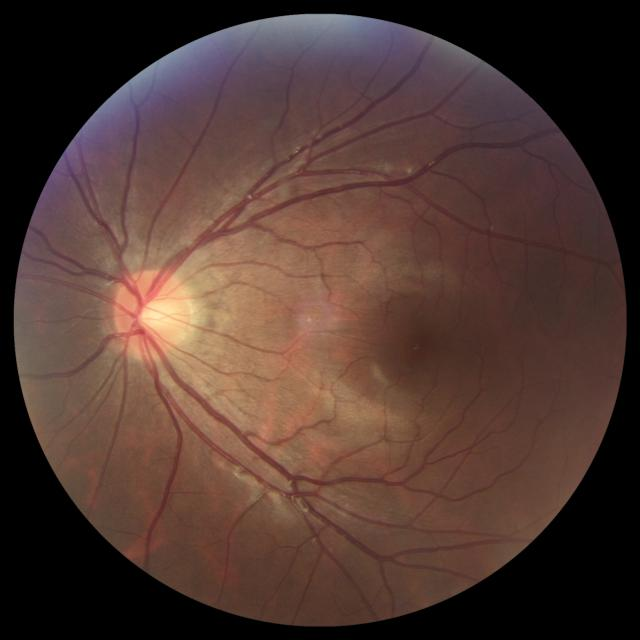OC: (136, 299, 168, 330)
OD: (112, 271, 192, 357)
